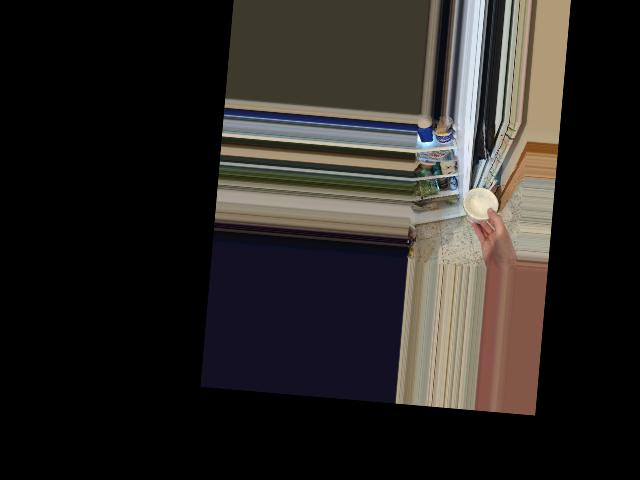cotage: (462, 185, 495, 226)
